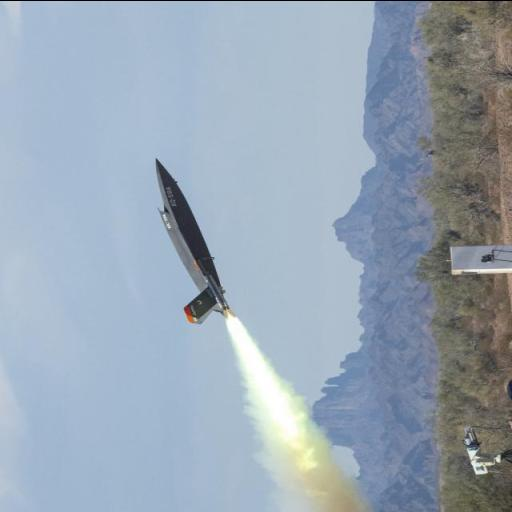uav: (152, 158, 243, 324)
